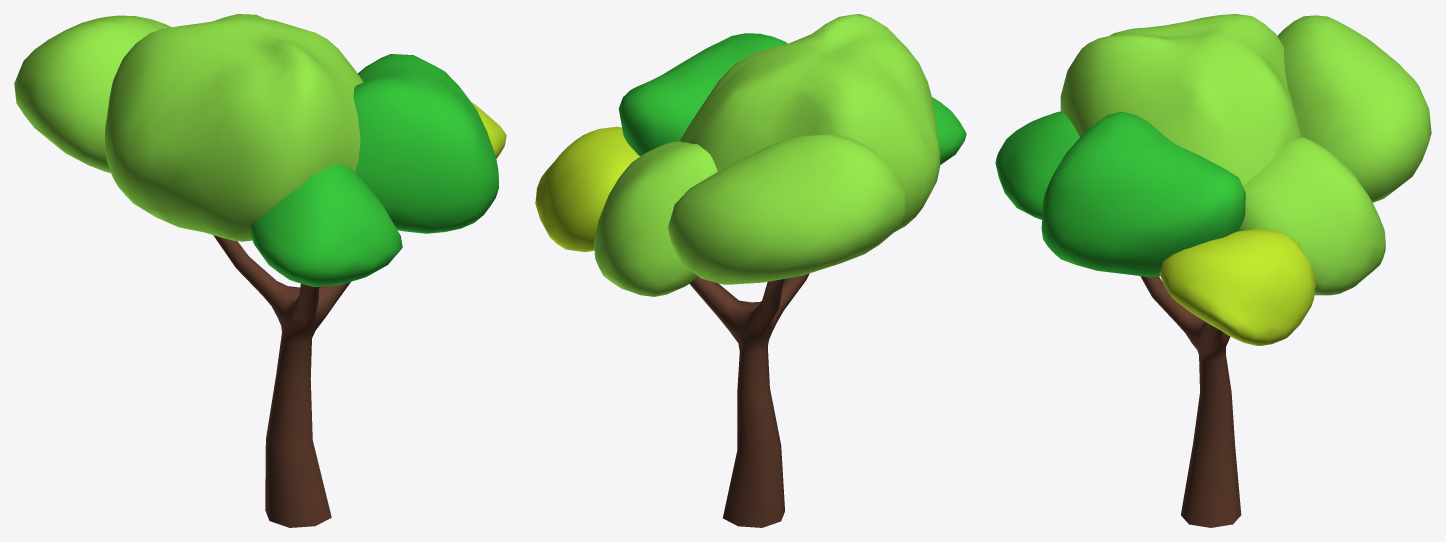
File: tree_08.fbx
3 renders of one model, left to right at view 1: azimuth 30°, elevation 25°; view 2: azimuth 150°, elevation 25°; view 3: azimuth 270°, elevation 25°, orthographic. The views are drawn at different scales.
Parts seen in each view (by area): view 1: tree5_Cube.010; view 2: tree5_Cube.010; view 3: tree5_Cube.010.
Boxes of the visible parts, box(x1,y1,x2,y2) form: tree5_Cube.010: box(14, 14, 506, 527); tree5_Cube.010: box(535, 14, 966, 527); tree5_Cube.010: box(995, 14, 1431, 527).
Size of the model in its own units: 455 by 522 by 451.
